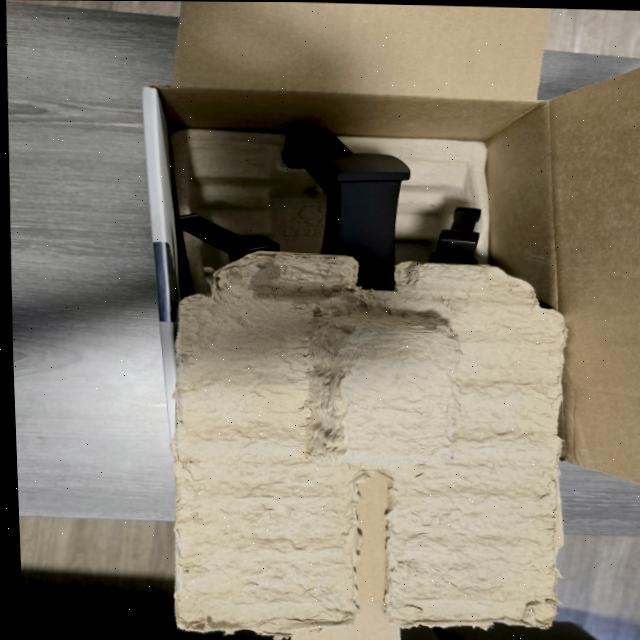9o: (282, 128, 409, 290), (175, 214, 279, 261), (428, 207, 480, 264)
